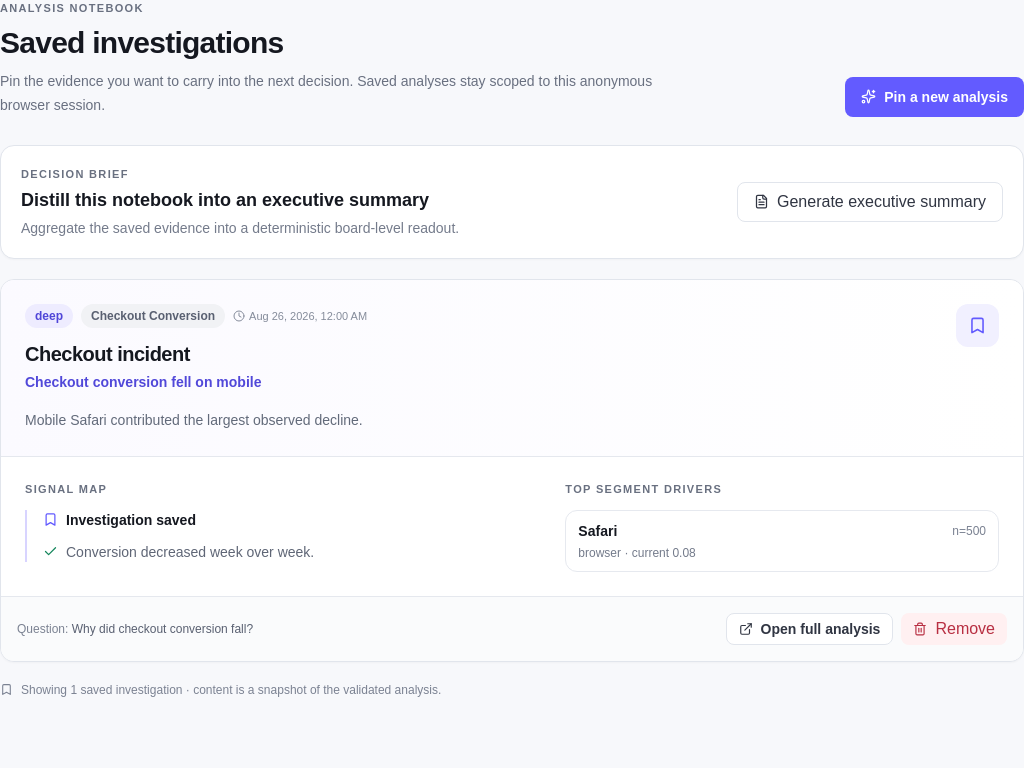
Scenario: analysis notebook › renders a saved signal map and opens the source analysis
Expected: the heading "Checkout incident" is shown, [25,343,190,365]
Expected: the text "Conversion decreased week over week." is shown, [66,542,314,562]
Click the button "Generate executive summary" at (870, 202), box [737,182,1003,222]
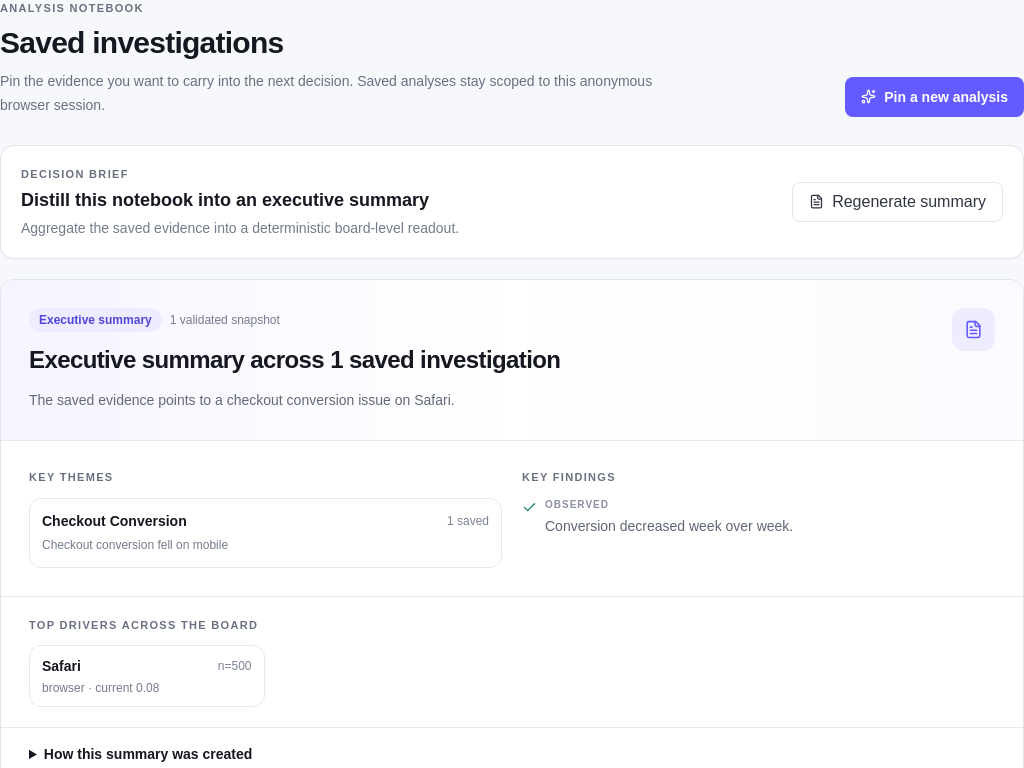
Now the heading "Executive summary across 1 saved investigation" is shown, box [29,344,560,376]
Now the text "Key themes" is shown, box [29,471,114,483]
